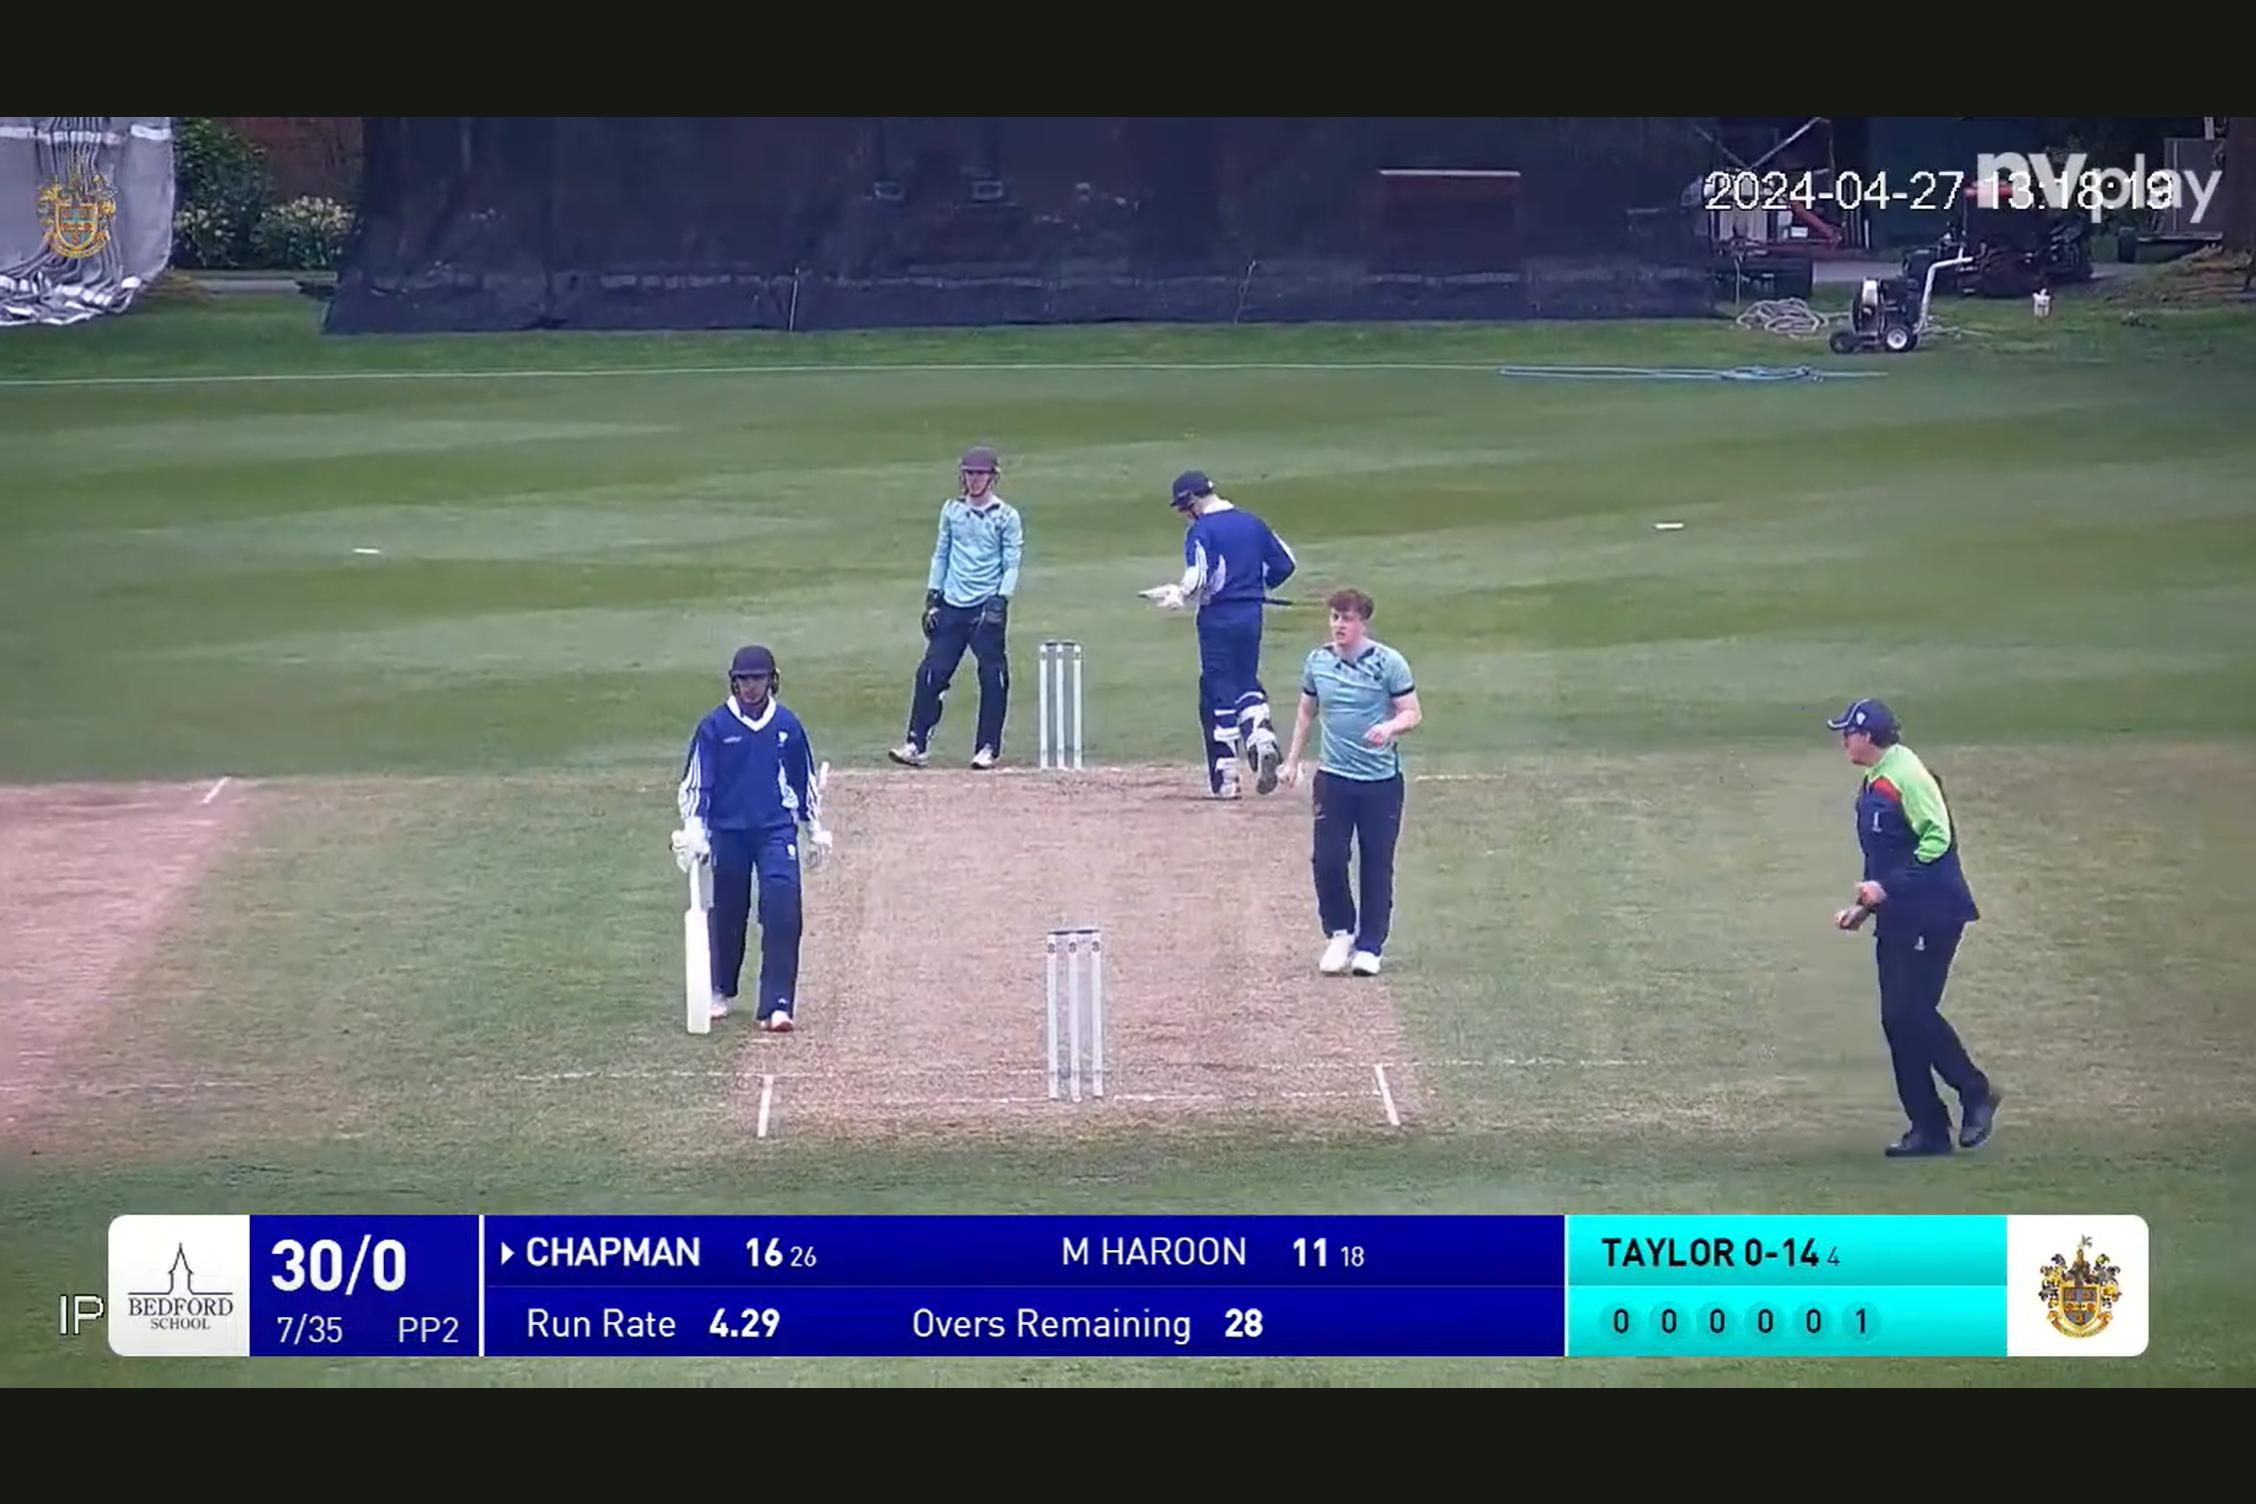bowler walking back: (1249, 581, 1450, 1000)
non striker: (638, 623, 843, 1039)
umpire: (1821, 631, 2016, 1163)
wicket keeper: (883, 423, 1037, 769)
